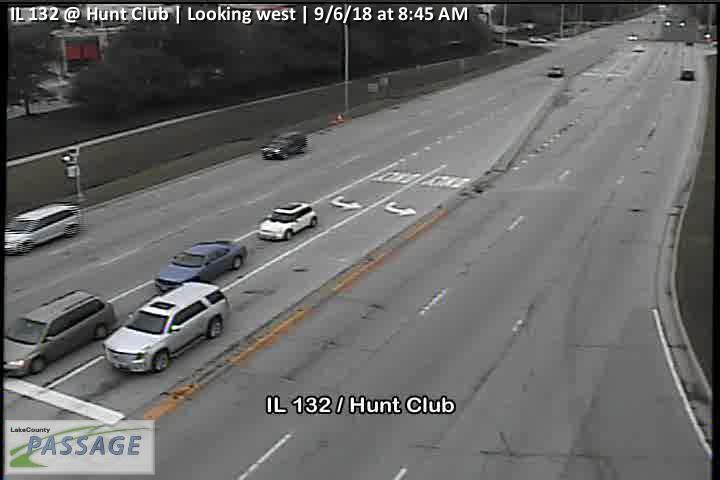SUV: (101, 282, 232, 375), (1, 287, 115, 382), (2, 202, 80, 255)
Sedan: (151, 239, 247, 292), (255, 199, 318, 241), (258, 130, 306, 161)
